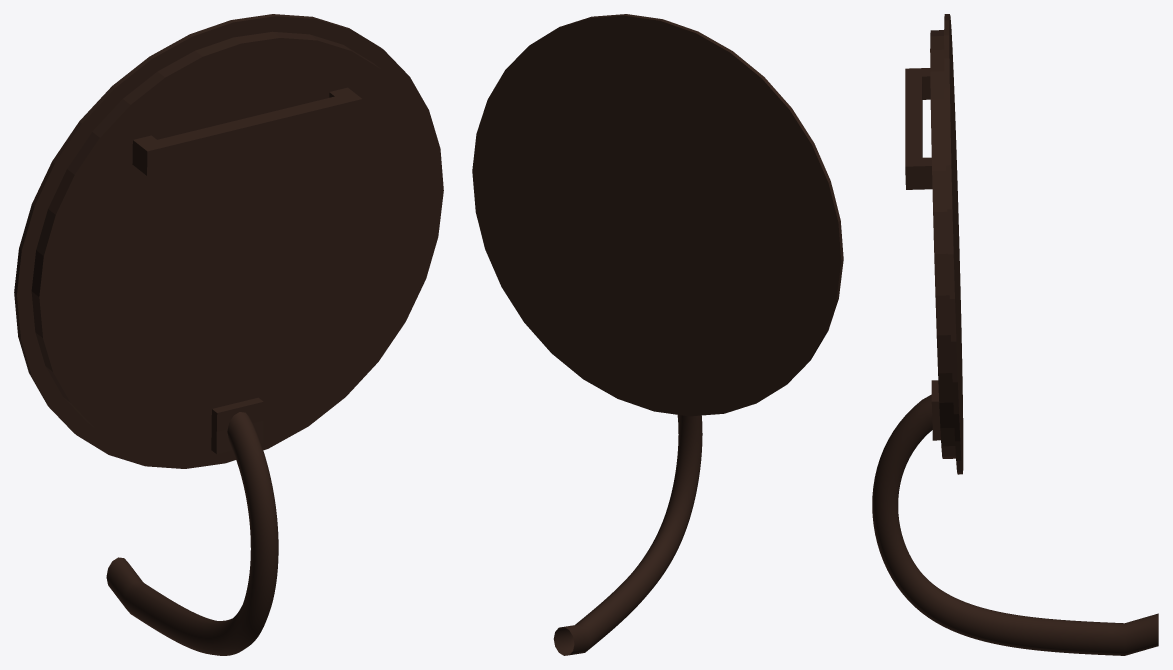
Rendered from tombino.fbx.
3 views of the same model, side by side, from view 1: azimuth 30°, elevation 25°; view 2: azimuth 150°, elevation 25°; view 3: azimuth 270°, elevation 25° (orthographic). The views are drawn at different scales.
Parts seen in each view (by area): view 1: Tombino; view 2: Tombino; view 3: Tombino.
Part boxes in pixels (bbox=[...]): Tombino: bbox=[14, 14, 443, 655]; Tombino: bbox=[472, 14, 843, 655]; Tombino: bbox=[872, 14, 1158, 655].
Size of the model in its own units: 74.71 by 111 by 46.45.
